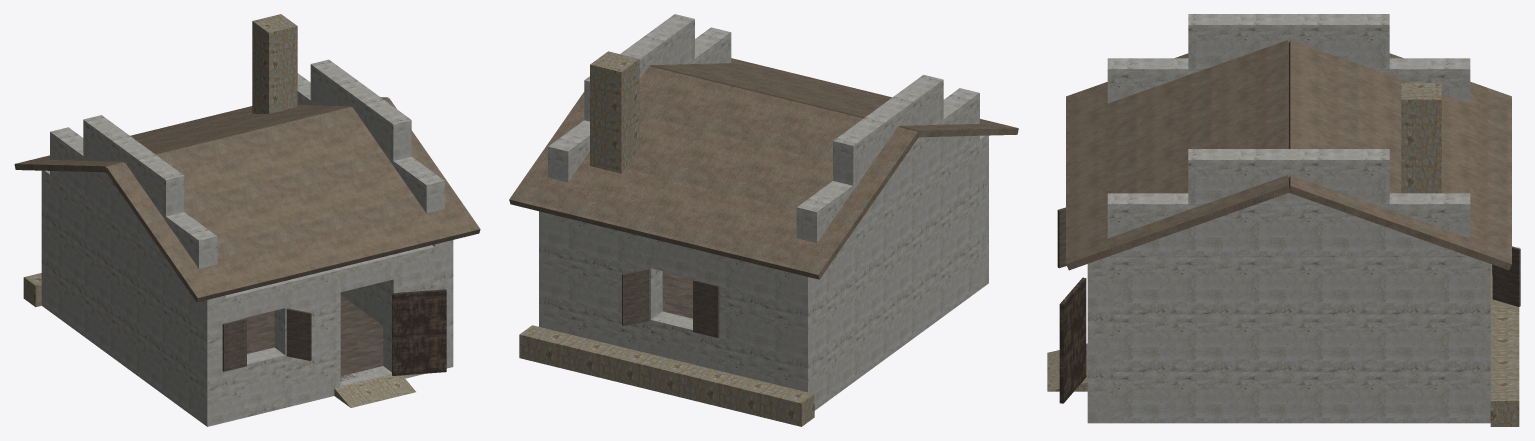
File: prop_hk_house_d.glb
3 renders of one model, left to right at view 1: azimuth 30°, elevation 25°; view 2: azimuth 150°, elevation 25°; view 3: azimuth 270°, elevation 25°, orthographic. The views are drawn at different scales.
Visible parts, largest first — view 1: building_hk_rowhouse_d; view 2: building_hk_rowhouse_d; view 3: building_hk_rowhouse_d.
Part boxes in pixels (x1,y1,x2,y2): building_hk_rowhouse_d: (14,14,480,426); building_hk_rowhouse_d: (509,14,1018,426); building_hk_rowhouse_d: (1047,14,1520,426).
Bounding box in the file's own units: 6.9 × 5.9 × 8.22.
Materials: 5 (5 with a texture image).
